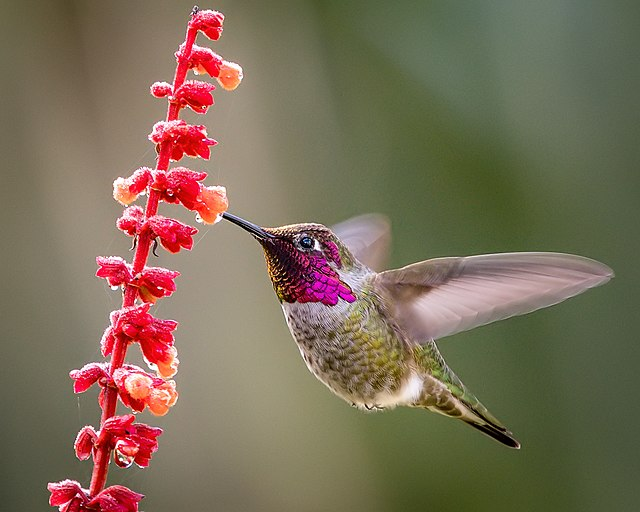calypte anna: (209, 204, 614, 450)
